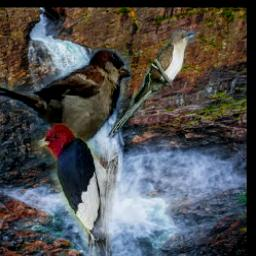Cuckoo: (106, 29, 196, 142)
Sparrow: (0, 49, 131, 169)
Woodpecker: (32, 123, 119, 256)
